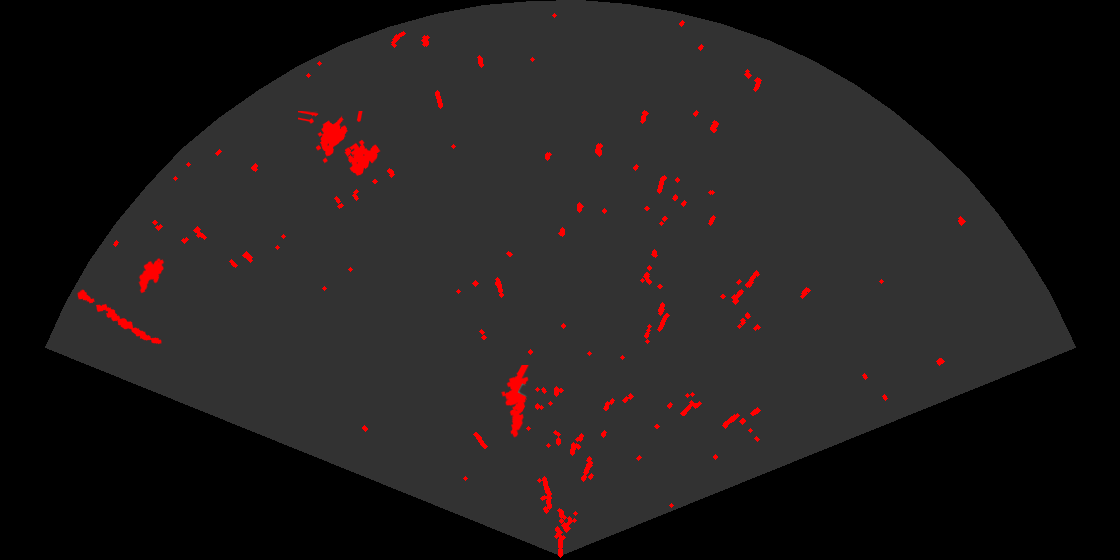AUV: (137, 256, 166, 295)
cage: (298, 111, 382, 177)
chain: (76, 288, 163, 346)
frogman: (499, 365, 531, 439)
